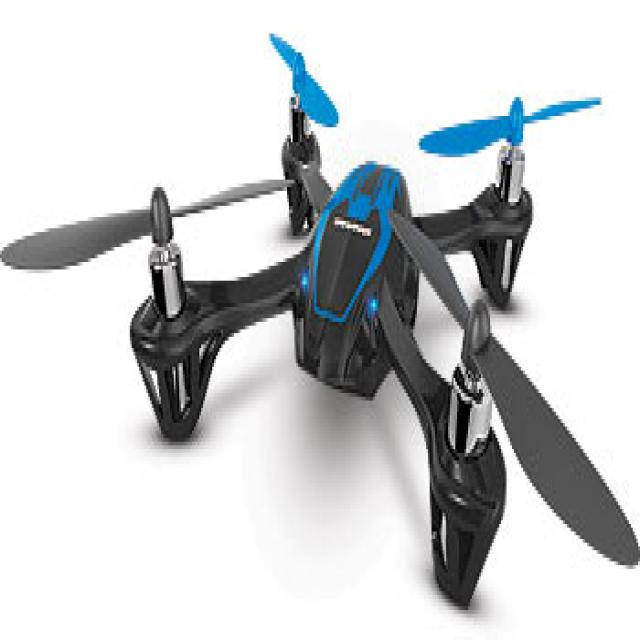drone: (71, 0, 612, 640)
